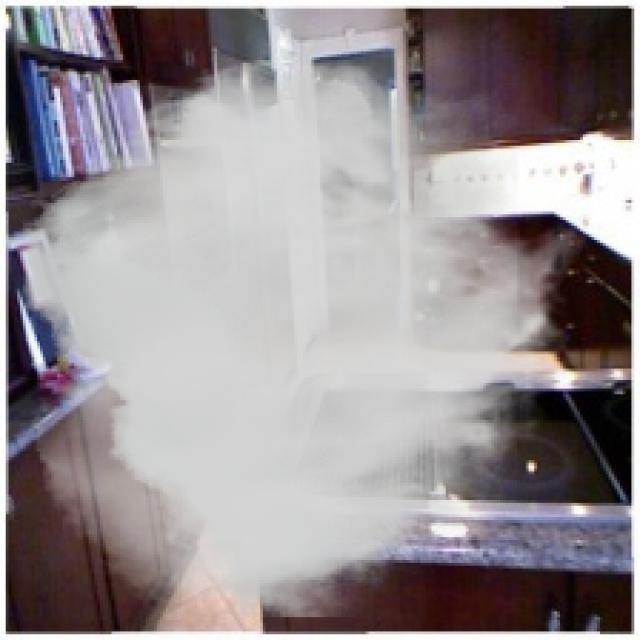Smoke: (22, 52, 588, 618)
